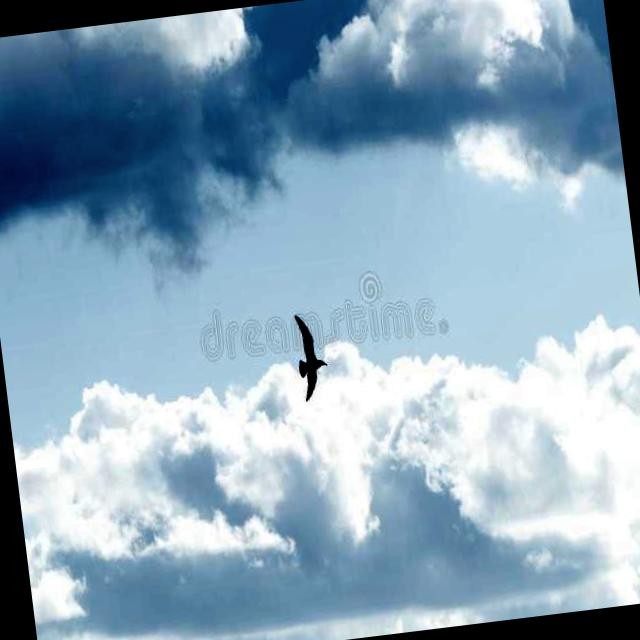bird: (287, 307, 335, 402)
